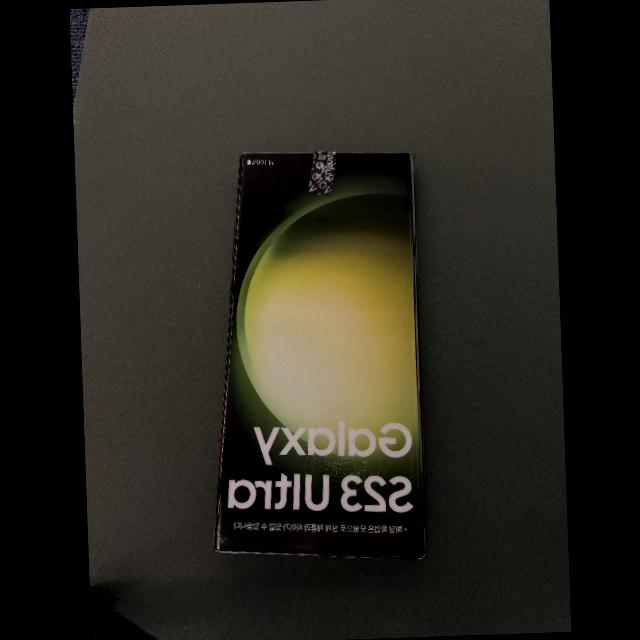phone: (214, 151, 425, 557)
sticker: (307, 152, 335, 196)
